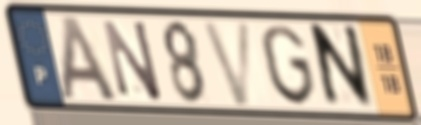8: (161, 18, 210, 107)
A: (59, 13, 122, 104)
G: (258, 22, 319, 109)
N: (309, 20, 376, 112), (99, 18, 166, 105)
V: (198, 19, 255, 110)
